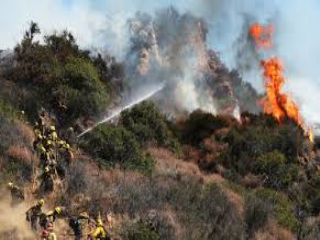fire: (246, 22, 314, 141)
smoke: (136, 13, 242, 124), (40, 10, 130, 70)
